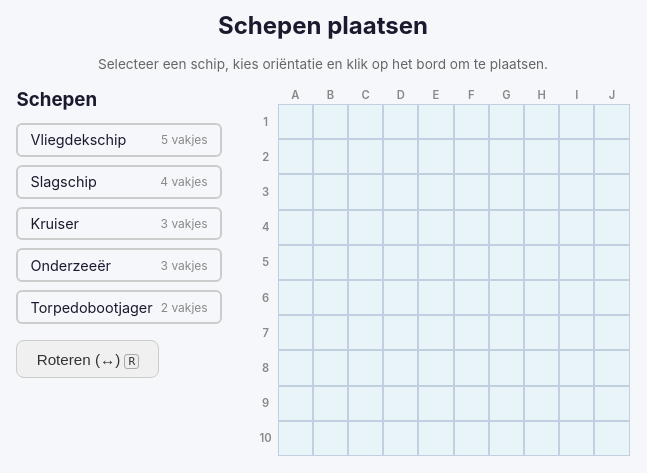
Test: PlacementView › oriëntatie wisselt bij klik op roteren-knop
What coordinates should you click on to do the following:
click the button with class "secondary"
I would click on:
 (88, 359)
Its box is [16,340,159,378].
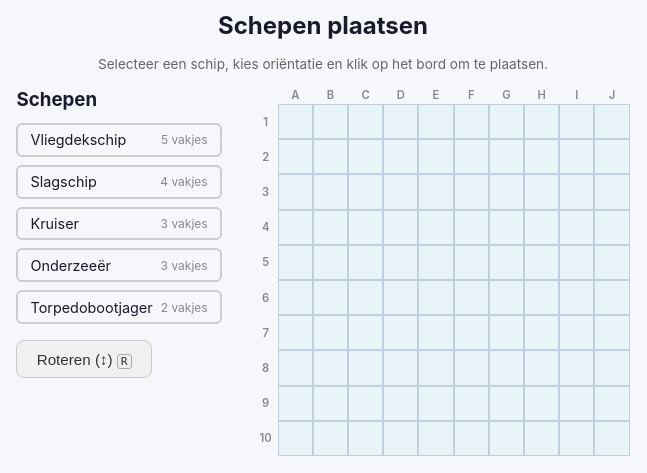
Expected: the button with class "secondary" shows "↕", [16,340,152,378]
